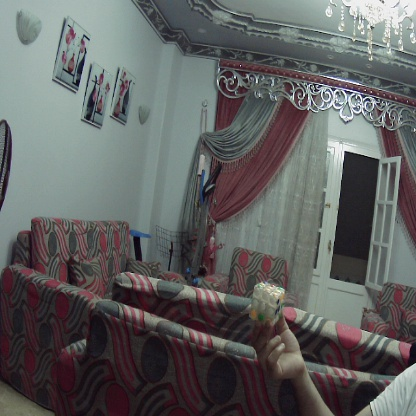Rubix Cube: (250, 280, 290, 326)
